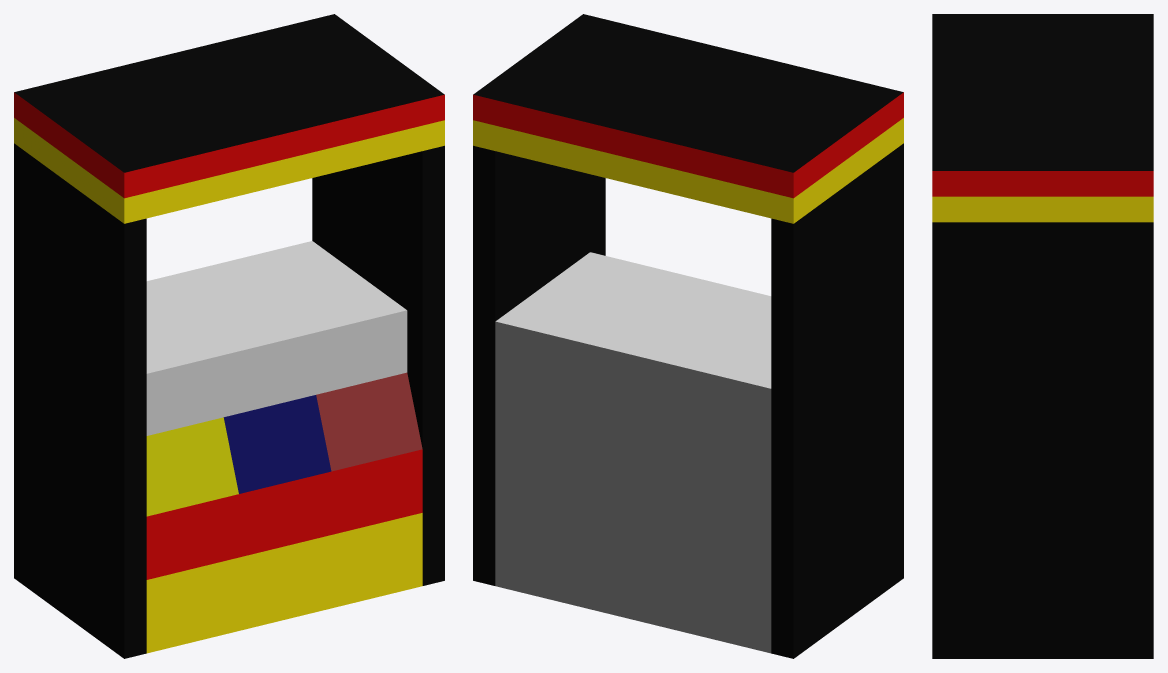
Rendered from Fuel Station.fbx.
The picture shows the model from 3 angles, left to right: view 1: azimuth 30°, elevation 25°; view 2: azimuth 150°, elevation 25°; view 3: azimuth 270°, elevation 25°; orthographic projection.
Parts seen in each view (by area): view 1: Model; view 2: Model; view 3: Model.
Boxes of the visible parts, x1,y1,x2,y2 form: Model: [14, 14, 444, 658]; Model: [473, 14, 903, 658]; Model: [932, 14, 1153, 658].
Size of the model in its own units: 46.81 by 67.84 by 27.88.
